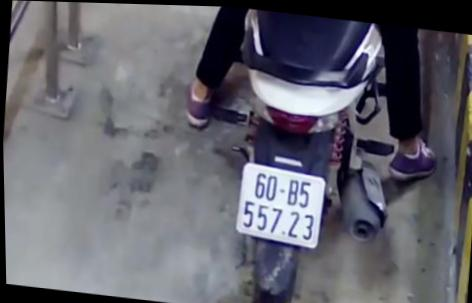LP: (231, 158, 328, 249)
